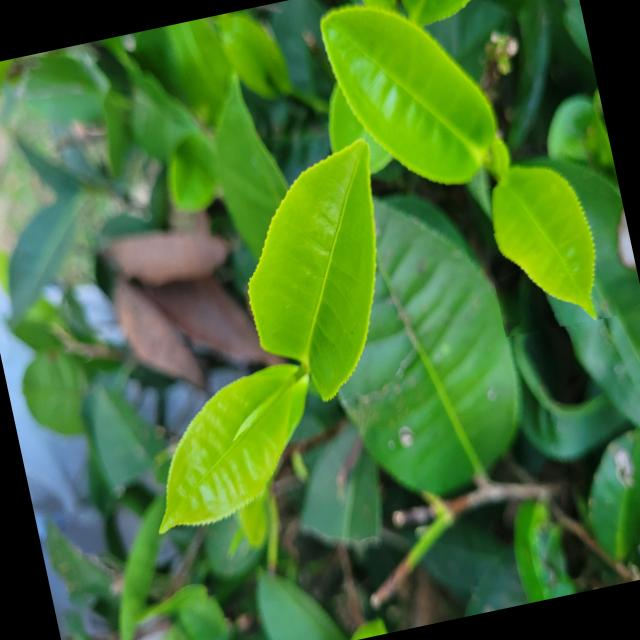Catagory A(1-2 days): (470, 146, 620, 339)
